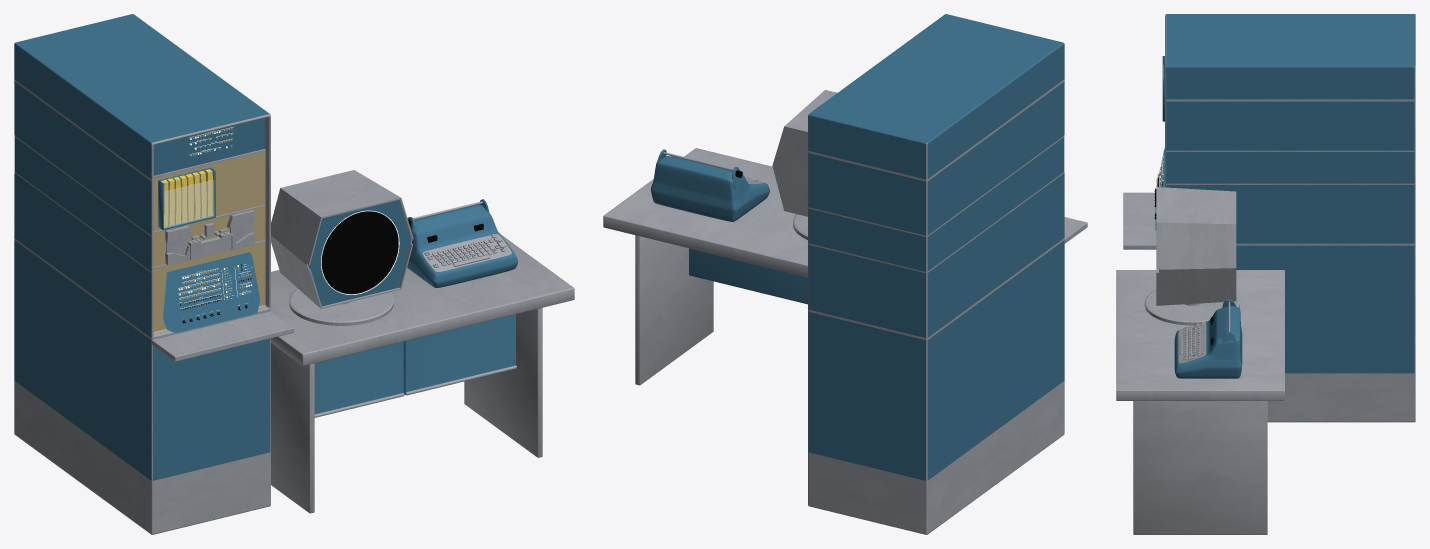
3 renders of one model, left to right at view 1: azimuth 30°, elevation 25°; view 2: azimuth 150°, elevation 25°; view 3: azimuth 270°, elevation 25°, orthographic. The views are drawn at different scales.
Parts seen in each view (by area): view 1: PDP_13, Table_14, Monitor_15, Keyboard_18, Panel_22, Metal_20, Papers_9, Glass_12, Keys_17, Pocket_8; view 2: PDP_13, Table_14, Keyboard_18, Monitor_15; view 3: PDP_13, Table_14, Monitor_15, Keyboard_18, Keys_17.
Part boxes in pixels (x1,y1,x2,y2): PDP_13: (14, 14, 293, 534); Table_14: (270, 234, 574, 513); Monitor_15: (271, 170, 413, 325); Keyboard_18: (407, 199, 517, 287); Panel_22: (163, 252, 259, 332); Metal_20: (165, 210, 254, 265); Papers_9: (161, 169, 212, 227); Glass_12: (164, 180, 214, 228); Keys_17: (424, 233, 506, 267); Pocket_8: (158, 167, 215, 230); PDP_13: (808, 14, 1087, 534); Table_14: (603, 148, 807, 385); Keyboard_18: (651, 149, 769, 221); Monitor_15: (772, 90, 837, 239); PDP_13: (1123, 14, 1415, 422); Table_14: (1116, 270, 1284, 534); Monitor_15: (1144, 187, 1239, 325); Keyboard_18: (1174, 299, 1242, 378); Keys_17: (1179, 322, 1205, 360).
Size of the model in its own units: 6.43 by 6.08 by 4.64.
Materials: 9 (2 with a texture image).
